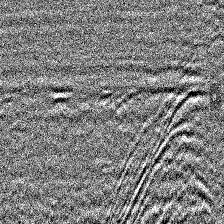cavities: (111, 74, 224, 224)
